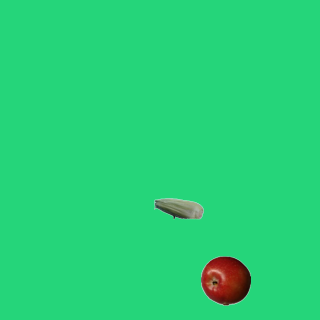Apple Braeburn: (200, 255, 250, 305)
Corn Husk: (153, 183, 203, 233)
